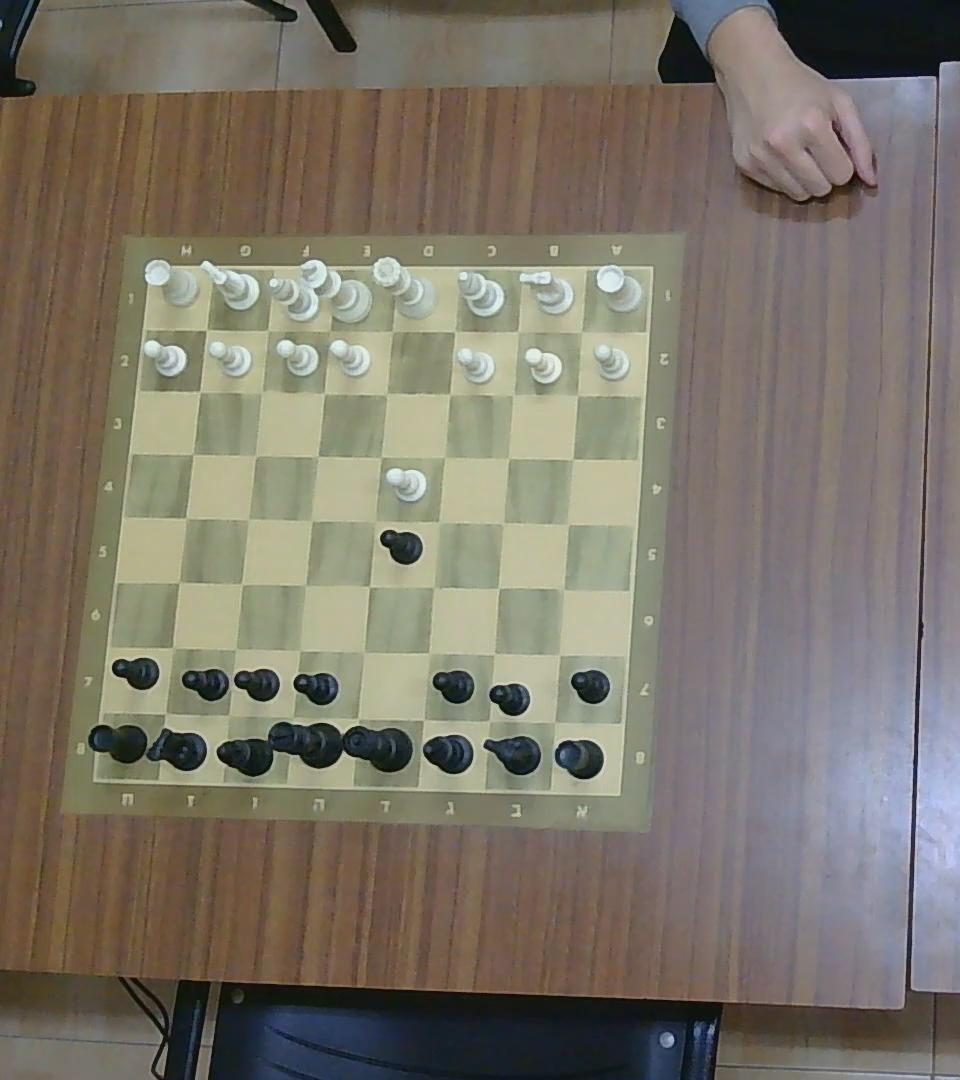xcorner: (278, 707, 301, 730), (344, 707, 367, 729), (155, 703, 176, 723), (543, 712, 564, 731), (290, 640, 309, 659), (320, 321, 339, 340), (364, 510, 383, 529), (183, 444, 201, 463), (177, 508, 195, 527), (170, 572, 188, 591), (440, 384, 459, 402), (414, 711, 433, 729), (480, 711, 499, 729), (164, 638, 182, 657), (296, 576, 314, 594), (219, 706, 237, 724), (446, 321, 463, 340), (505, 385, 522, 404), (435, 448, 453, 465), (500, 448, 517, 466), (315, 384, 333, 401), (371, 448, 388, 466), (309, 446, 326, 464), (377, 384, 394, 402), (484, 646, 502, 663), (429, 512, 446, 530), (555, 580, 573, 597), (197, 320, 214, 337), (303, 511, 320, 528), (560, 516, 577, 533), (573, 322, 590, 339), (355, 644, 372, 661), (424, 578, 441, 595), (226, 641, 243, 658), (569, 386, 586, 403), (362, 578, 378, 595), (241, 511, 257, 528), (248, 447, 264, 464), (260, 322, 276, 339), (511, 322, 527, 339), (495, 514, 511, 531), (383, 322, 399, 339), (254, 384, 270, 401), (490, 580, 506, 597), (233, 576, 250, 591), (421, 645, 438, 660), (565, 451, 581, 466), (551, 647, 567, 662), (192, 383, 206, 399)
